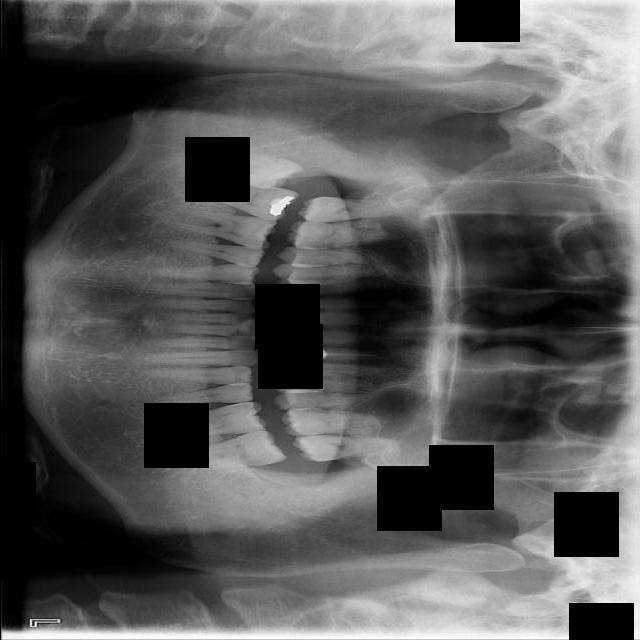52: (248, 177, 300, 232), (265, 346, 319, 362), (243, 459, 262, 468)
73: (319, 347, 390, 362), (74, 608, 84, 612)
BioHorizons Implant: (291, 430, 402, 464)
Blue Sky Bio Implant: (183, 426, 286, 479)
Caries: (297, 195, 406, 222)
Implant: (195, 173, 299, 225)
Keystone Dental Implant: (213, 143, 306, 198)
